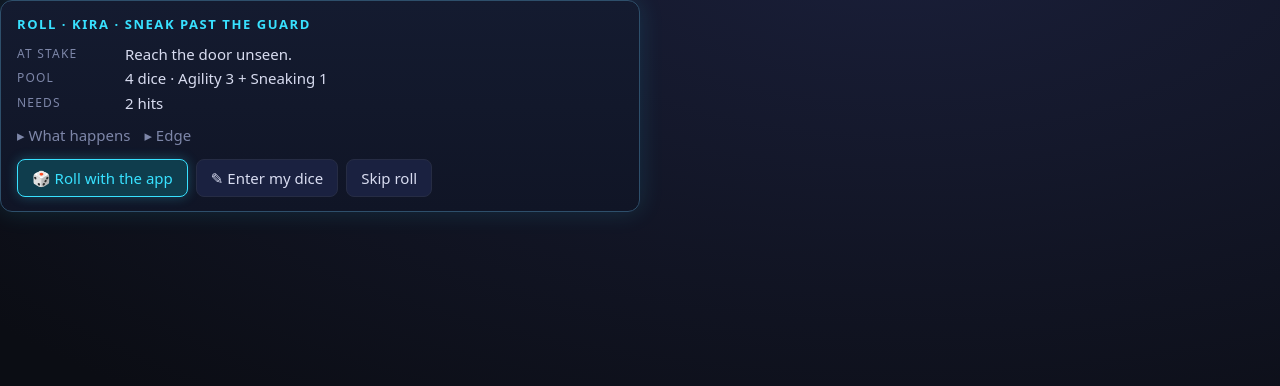
Test case: the roll card › says so, and sends nothing, when a die is missing
Click the button "✎ Enter my dice". click: (267, 178)
box: [196,158,338,197]
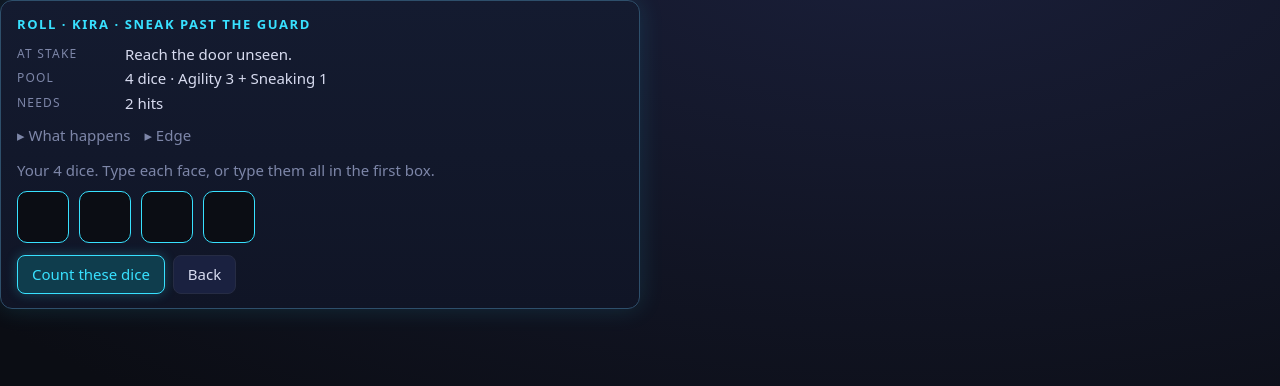
Type "6" into the field named "die 1". click: (43, 217)
box: [17,191,69,243]
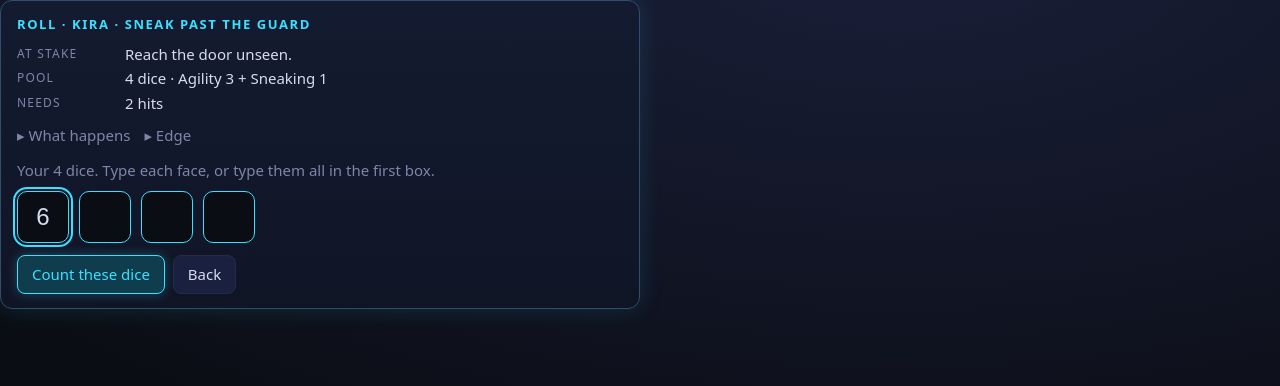
Click the button "Count these dice". click: (91, 274)
box: [17,255,165,294]
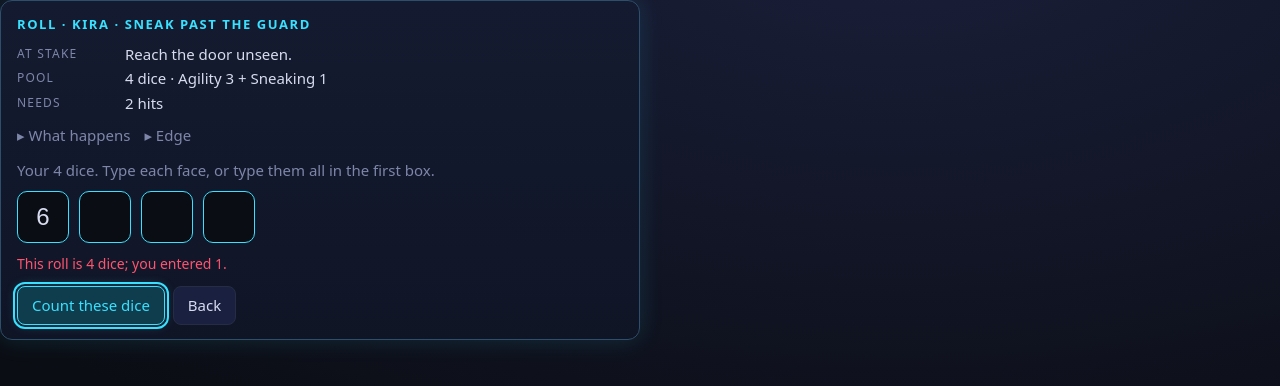
Result: the message reads "This roll is 4 dice; you entered 1." at [17,254,227,273]
